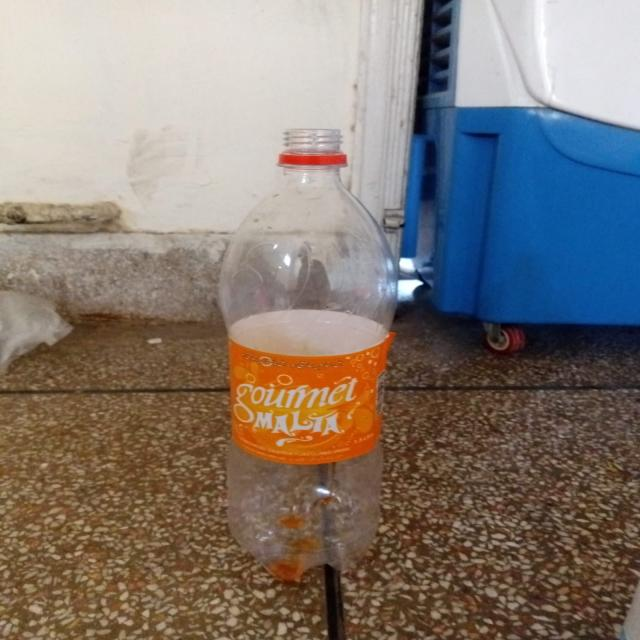bottle: (209, 118, 411, 584)
label: (224, 342, 392, 484)
